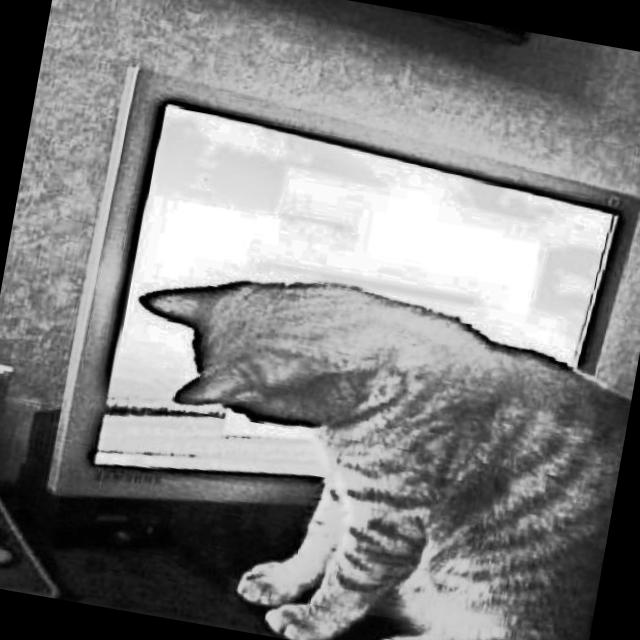Cat: (79, 241, 640, 640)
